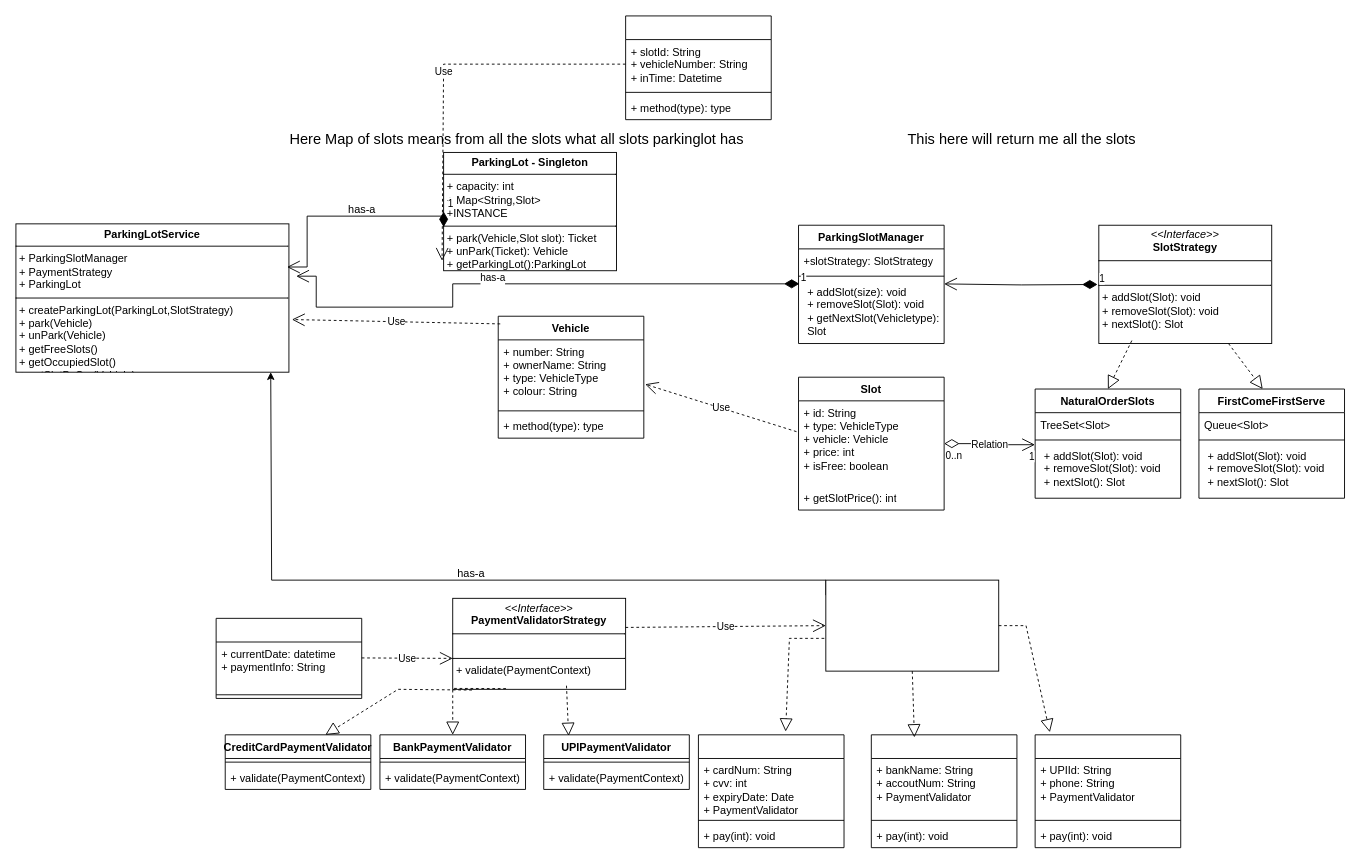
Some shapes in this 1360 by 866 pixel diagram are drawn without their labels. The shapes that lost their labels are listed below. From the top down, each one's box as (x1, y1, x2, y2) in pixels, then its label:
(625, 15, 771, 120): Ticket
(825, 579, 999, 671): <<Interface>> PaymentStrategy + pay(int): void
(215, 617, 362, 698): PaymentContext
(698, 734, 844, 848): CreditCardPaymentStrategy
(870, 734, 1017, 848): BankPaymentStrategy
(1034, 734, 1181, 848): UPIPaymentStrategy
